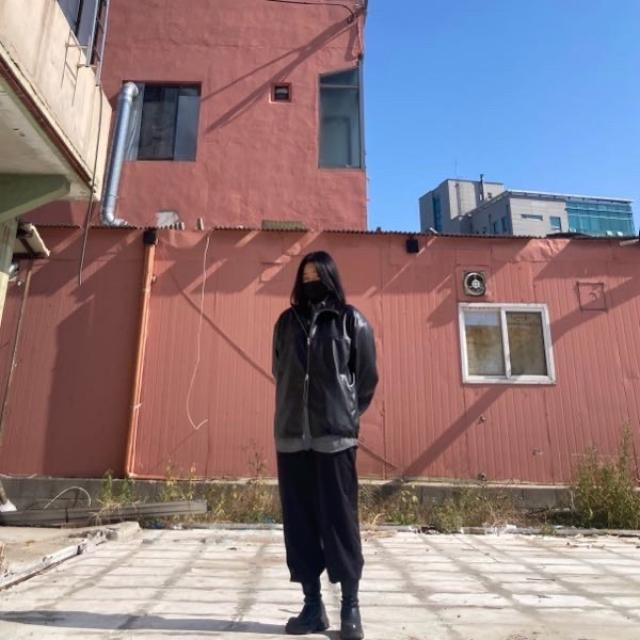jacket: (271, 307, 375, 456)
slacks: (276, 445, 362, 589)
